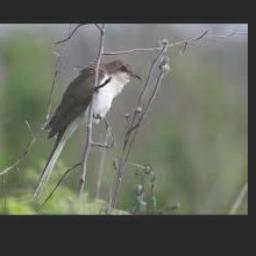Cuckoo: (31, 58, 142, 201)
